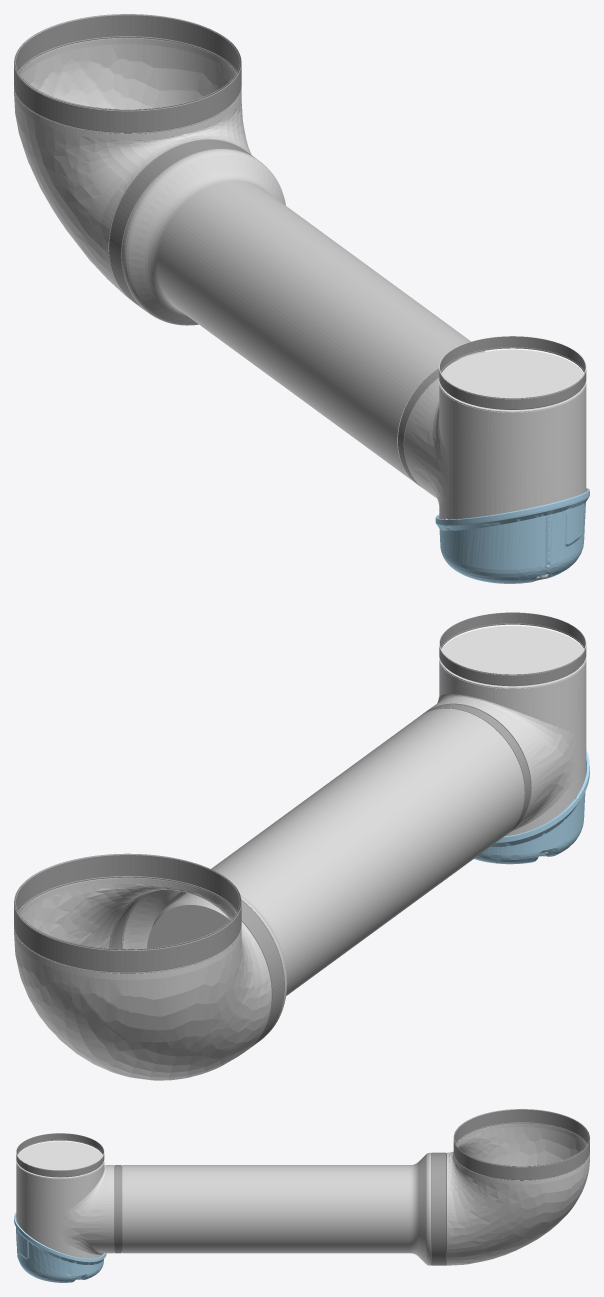
The model's file is forearm_link.glb.
3 views of the same model, one above another, from view 1: azimuth 30°, elevation 25°; view 2: azimuth 150°, elevation 25°; view 3: azimuth 270°, elevation 25° (orthographic). The views are drawn at different scales.
Parts seen in each view (by area): view 1: Node7, Node6, Node11, Node10, Node1, Node3, Node4; view 2: Node7, Node6, Node11, Node10, Node1, Node4, Node3; view 3: Node7, Node6, Node11, Node10, Node3, Node1, Node4.
Boxes of the visible parts, x1=… form: Node7: x1=121, y1=149, x2=484, y2=482; Node6: x1=14, y1=38, x2=586, y2=519; Node11: x1=14, y1=14, x2=586, y2=486; Node10: x1=16, y1=14, x2=585, y2=577; Node1: x1=439, y1=491, x2=589, y2=580; Node3: x1=436, y1=488, x2=589, y2=581; Node4: x1=435, y1=489, x2=586, y2=583; Node7: x1=122, y1=708, x2=524, y2=1039; Node6: x1=14, y1=612, x2=586, y2=1080; Node11: x1=14, y1=612, x2=586, y2=1048; Node10: x1=16, y1=626, x2=585, y2=949; Node1: x1=474, y1=764, x2=589, y2=860; Node4: x1=490, y1=795, x2=583, y2=861; Node3: x1=477, y1=751, x2=589, y2=864; Node7: x1=122, y1=1152, x2=431, y2=1265; Node6: x1=16, y1=1123, x2=589, y2=1265; Node11: x1=16, y1=1109, x2=589, y2=1265; Node10: x1=16, y1=1109, x2=586, y2=1277; Node3: x1=14, y1=1212, x2=104, y2=1282; Node1: x1=14, y1=1217, x2=103, y2=1279; Node4: x1=17, y1=1232, x2=106, y2=1281.
Size of the model in its own units: 0.116 by 0.123 by 0.4896.
